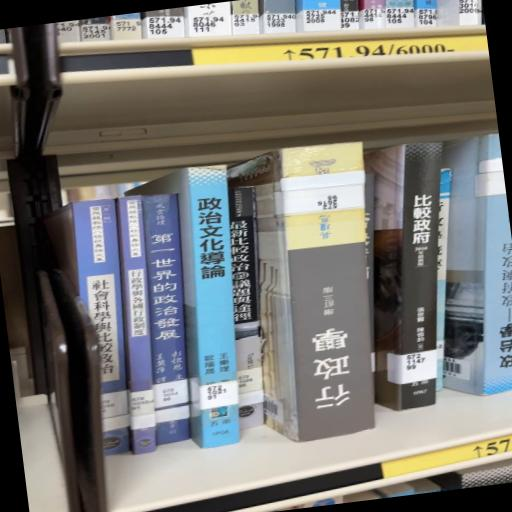reverse: (229, 144, 376, 443)
